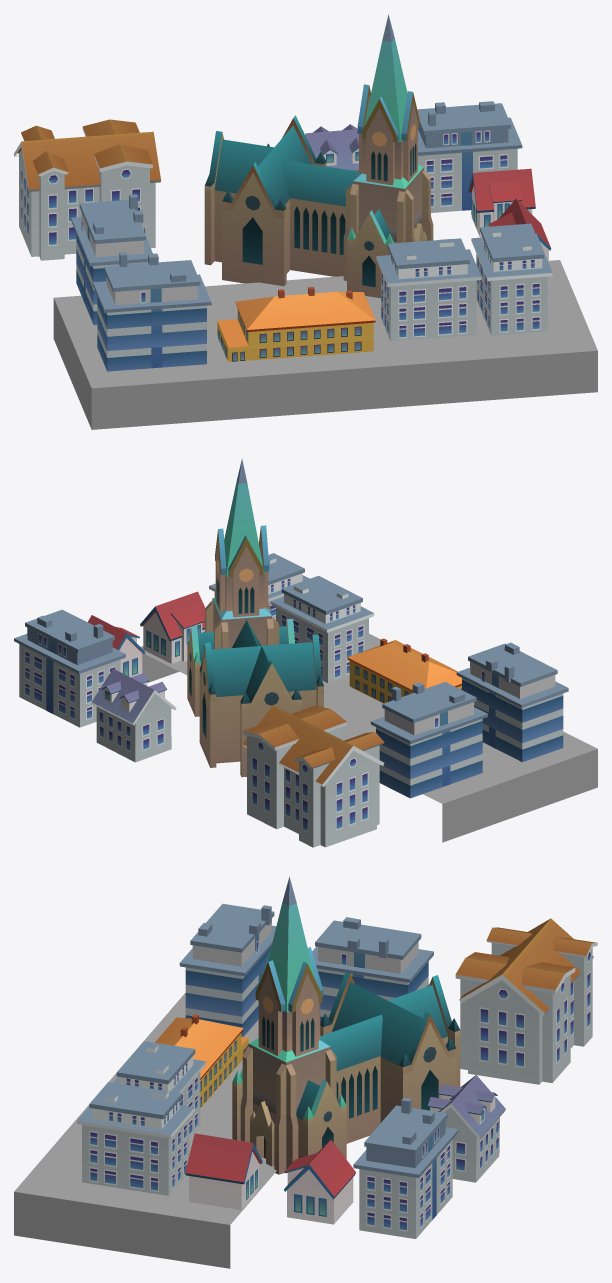
The model's file is Kristiansand.fbx.
3 renders of one model, top to bottom at view 1: azimuth 30°, elevation 25°; view 2: azimuth 150°, elevation 25°; view 3: azimuth 270°, elevation 25°, orthographic. The views are drawn at different scales.
Visible parts, largest first — view 1: Kristiansand; view 2: Kristiansand; view 3: Kristiansand.
Boxes of the visible parts, left/top/right/bottom form: Kristiansand: left=14, top=14, right=597, bottom=429; Kristiansand: left=14, top=458, right=597, bottom=847; Kristiansand: left=14, top=876, right=597, bottom=1268.
Bounding box in the file's own units: 1.88 × 1.03 × 1.72.
2 materials, 1 textured.
